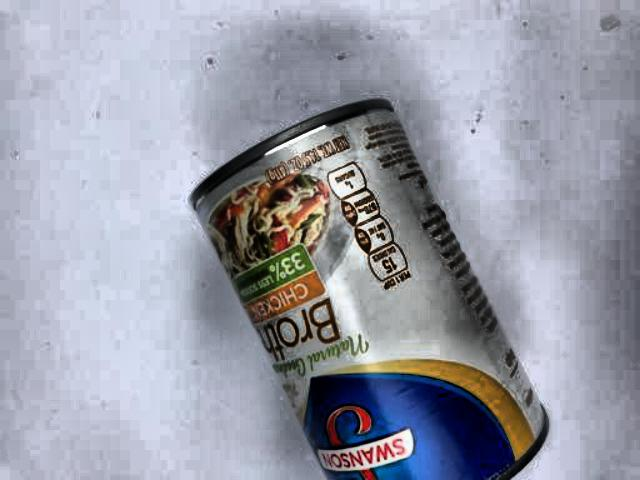Almennt: (171, 71, 540, 480)
